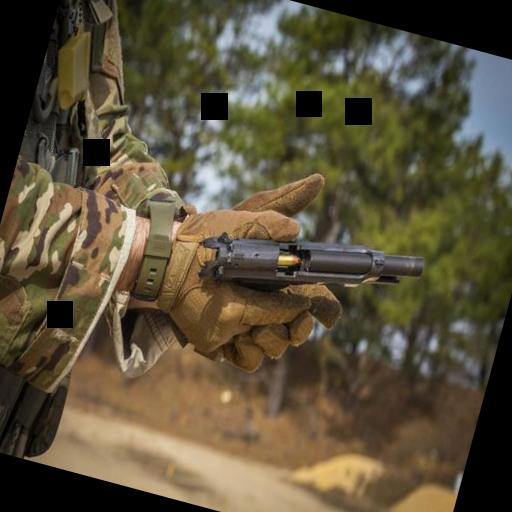Handgun: (191, 194, 427, 328)
